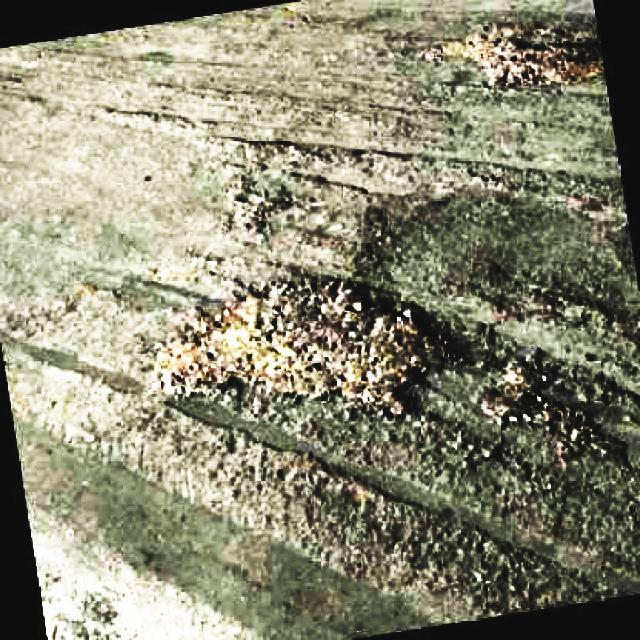pothole: (135, 274, 448, 423), (471, 342, 626, 458), (442, 24, 609, 88)
